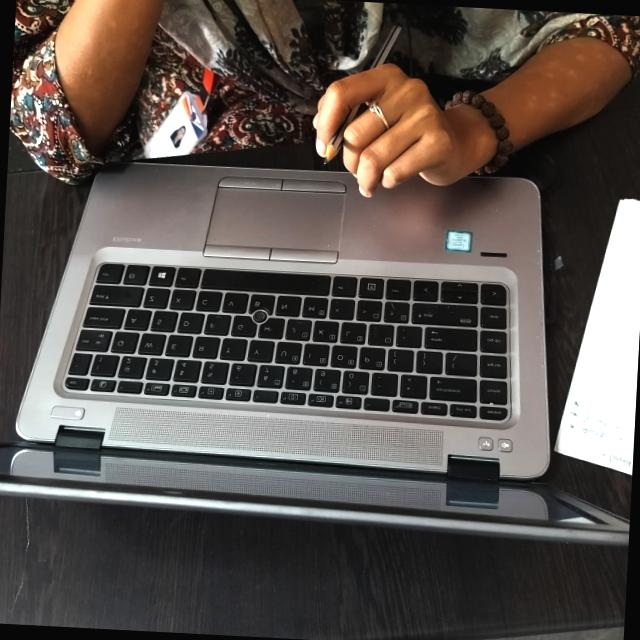laptop: (0, 131, 639, 589)
